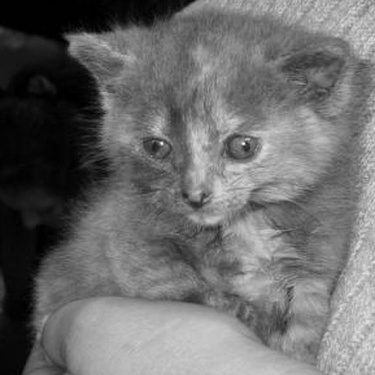cat: (35, 13, 355, 359)
